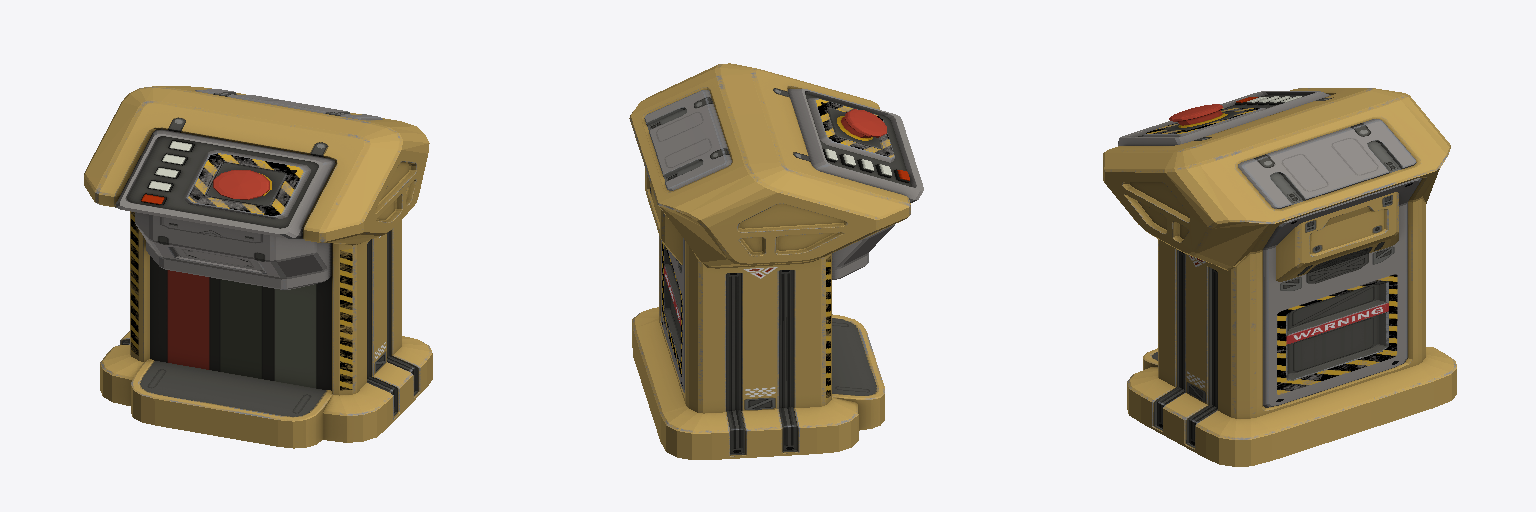
The picture shows the model from 3 angles: view 1: azimuth 30°, elevation 25°; view 2: azimuth 150°, elevation 25°; view 3: azimuth 270°, elevation 25°; orthographic projection.
Parts seen in each view (by area): view 1: SciFi_RemoteConrol_00_SciFi_RemoteConrol_00_0; view 2: SciFi_RemoteConrol_00_SciFi_RemoteConrol_00_0; view 3: SciFi_RemoteConrol_00_SciFi_RemoteConrol_00_0.
Part boxes in pixels (bbox=[...]): SciFi_RemoteConrol_00_SciFi_RemoteConrol_00_0: bbox=[84, 86, 432, 448]; SciFi_RemoteConrol_00_SciFi_RemoteConrol_00_0: bbox=[629, 63, 923, 459]; SciFi_RemoteConrol_00_SciFi_RemoteConrol_00_0: bbox=[1103, 88, 1456, 466].
Bounding box in the file's own units: 1.15 × 1 × 1.17.
2 materials, 2 textured.